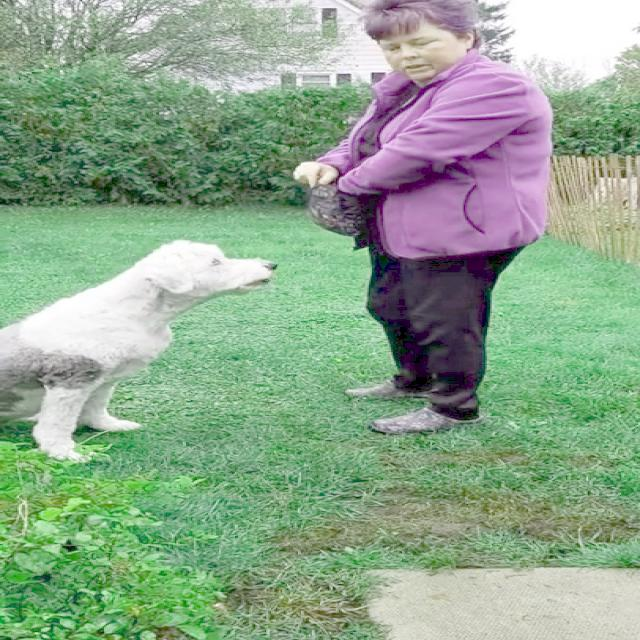Unleashed_Dog: (0, 217, 490, 464)
